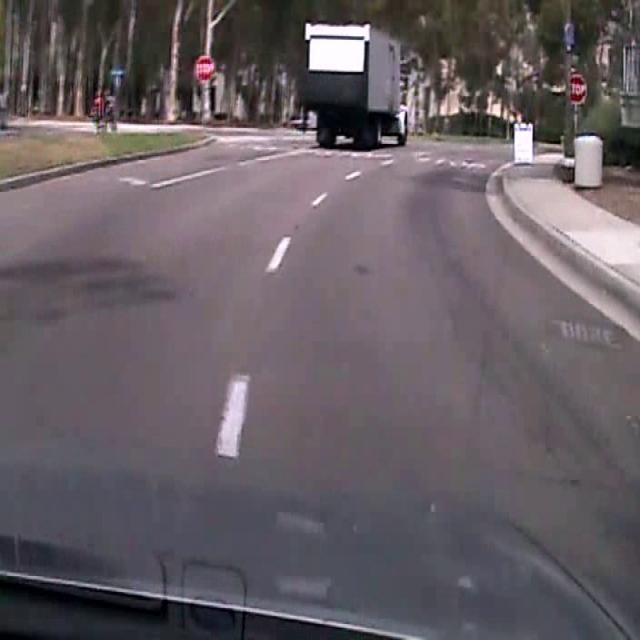stop: (566, 73, 586, 104), (194, 55, 213, 81)
